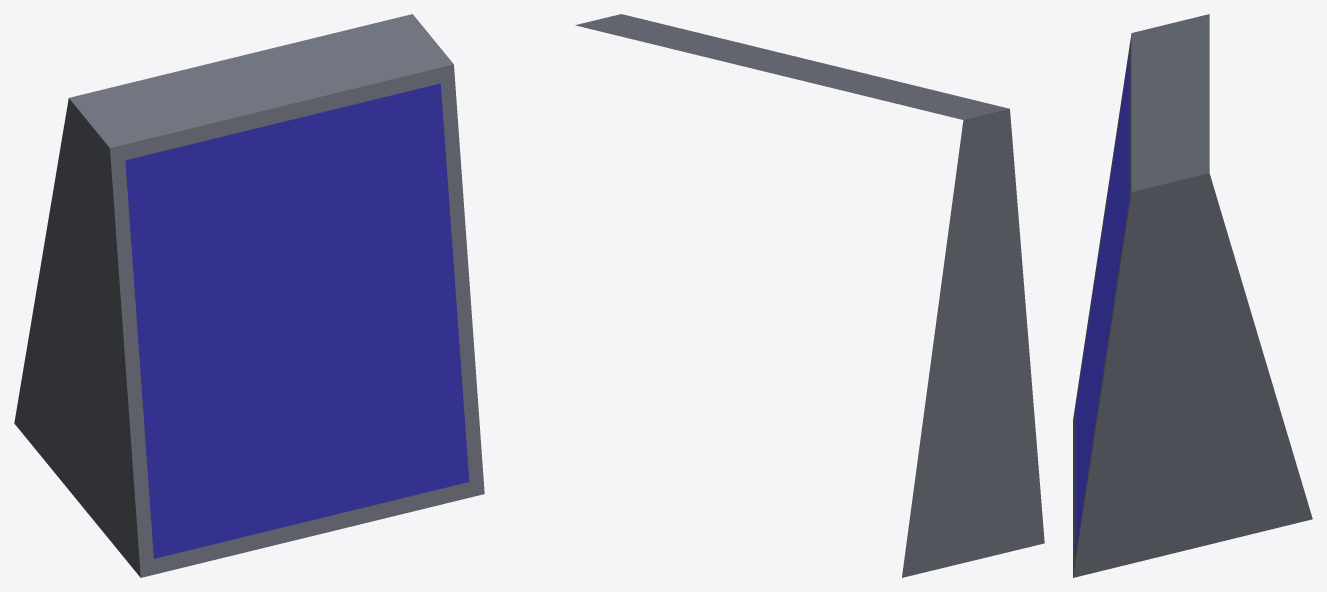
The model's file is VioletButton.glb.
The picture shows the model from 3 angles, left to right: view 1: azimuth 30°, elevation 25°; view 2: azimuth 150°, elevation 25°; view 3: azimuth 270°, elevation 25°; orthographic projection. The views are drawn at different scales.
Visible parts, largest first — view 1: VioletButton; view 2: VioletButton; view 3: VioletButton.
Boxes of the visible parts, <box> form: VioletButton: <box>14,14,484,577</box>; VioletButton: <box>575,14,1044,577</box>; VioletButton: <box>1073,14,1312,577</box>.
Size of what is drawn, in the model's own units: 0.0723 by 0.0858 by 0.046.
Materials: 2 (2 with a texture image).
